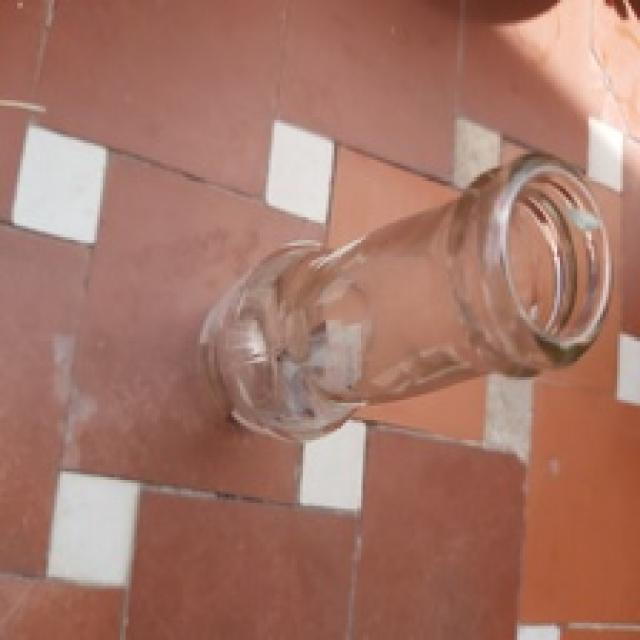garbage: (151, 128, 621, 454)
